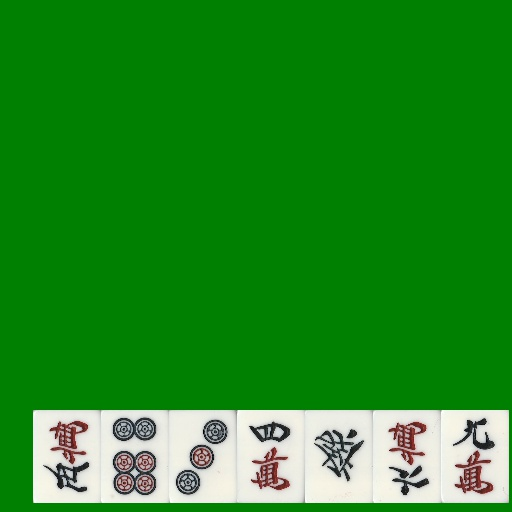3p: (169, 410, 237, 503)
4m: (237, 410, 305, 503)
5m: (33, 410, 101, 503)
6m: (373, 410, 441, 503)
6p: (101, 410, 169, 503)
9m: (441, 410, 509, 503)
hatsu: (305, 410, 373, 503)
